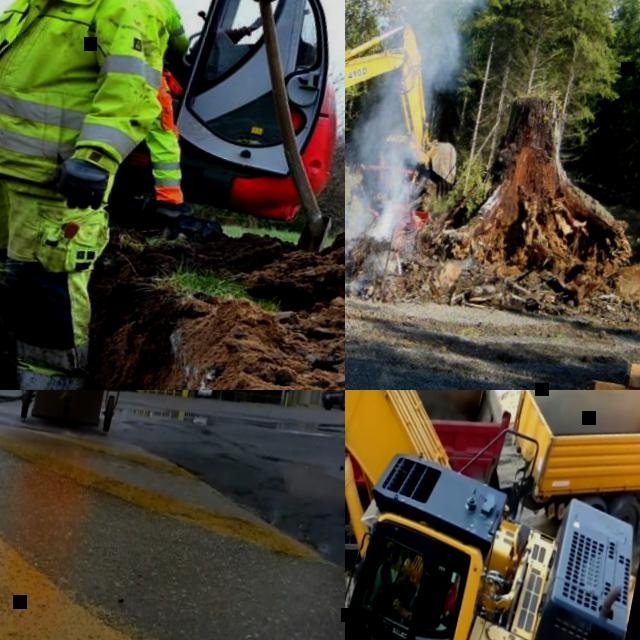NO-Safety Vest: (408, 588, 419, 614)
Person: (0, 0, 197, 390), (125, 54, 222, 232), (99, 0, 207, 66), (371, 554, 426, 640)
Safety Vest: (0, 0, 181, 199), (0, 11, 195, 195), (97, 0, 186, 59), (438, 584, 460, 626)
machinery: (0, 0, 345, 281), (345, 390, 640, 640), (345, 0, 485, 297), (345, 390, 522, 614)
vehicle: (197, 390, 217, 399)
